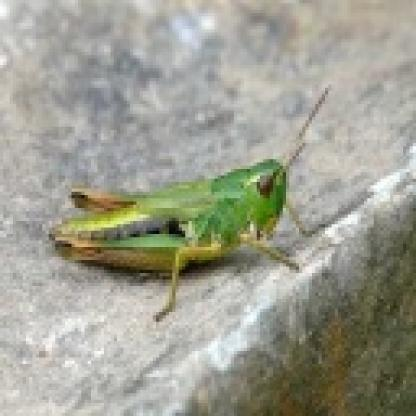grasshopper: (51, 112, 310, 290)
